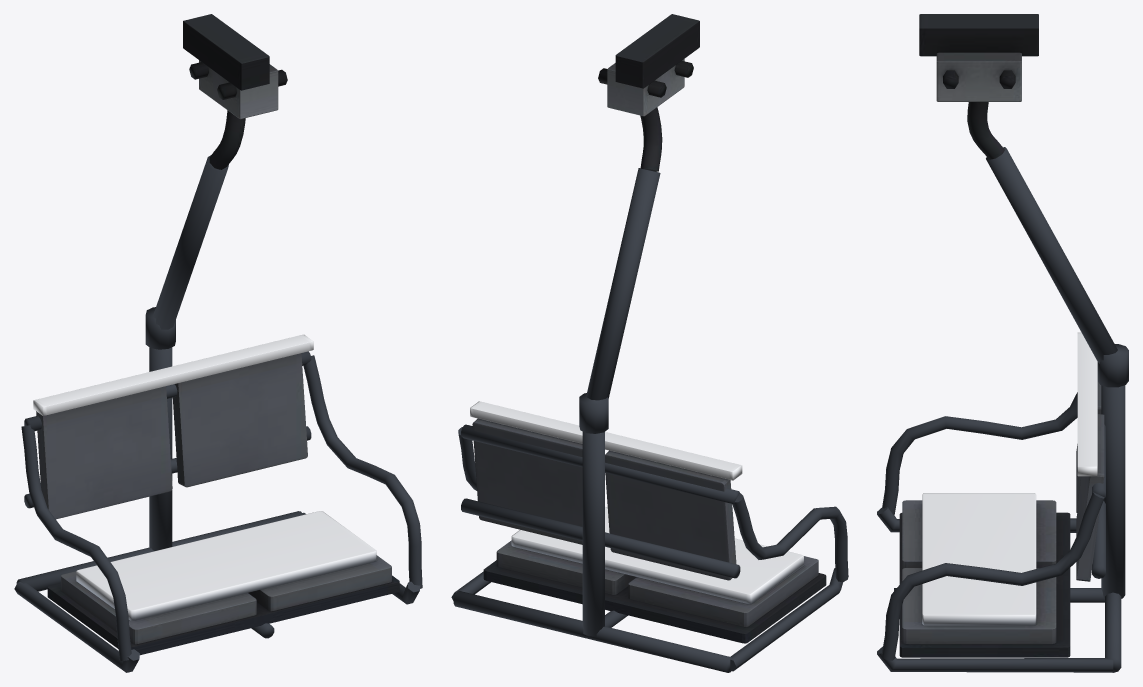
File: chair2_riblet.glb
3 views of the same model, side by side, from view 1: azimuth 30°, elevation 25°; view 2: azimuth 150°, elevation 25°; view 3: azimuth 270°, elevation 25° (orthographic). The views are drawn at different scales.
Parts seen in each view (by area): view 1: chair2_riblet, chair2_riblet_snow, chair2_riblet_paint; view 2: chair2_riblet, chair2_riblet_paint, chair2_riblet_snow; view 3: chair2_riblet_paint, chair2_riblet, chair2_riblet_snow.
Boxes of the visible parts, x1,y1,x2,y2 form: chair2_riblet: [36, 14, 399, 655]; chair2_riblet_snow: [33, 334, 376, 620]; chair2_riblet_paint: [14, 155, 422, 672]; chair2_riblet: [472, 14, 826, 643]; chair2_riblet_paint: [451, 168, 848, 672]; chair2_riblet_snow: [470, 401, 803, 603]; chair2_riblet_paint: [877, 147, 1128, 672]; chair2_riblet: [899, 14, 1104, 657]; chair2_riblet_snow: [922, 332, 1097, 625].
Size of the model in its own units: 1.27 by 2.26 by 0.8837.
3 materials, 1 textured.
